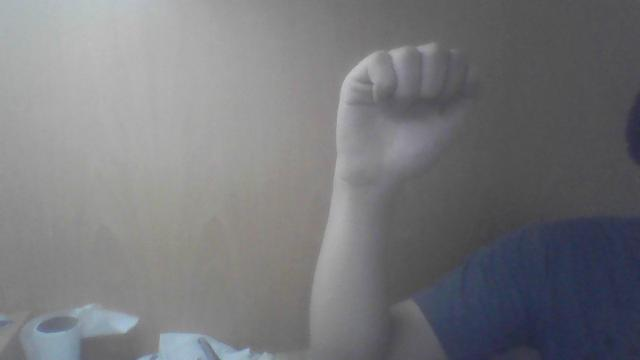forward: (334, 40, 474, 189)
